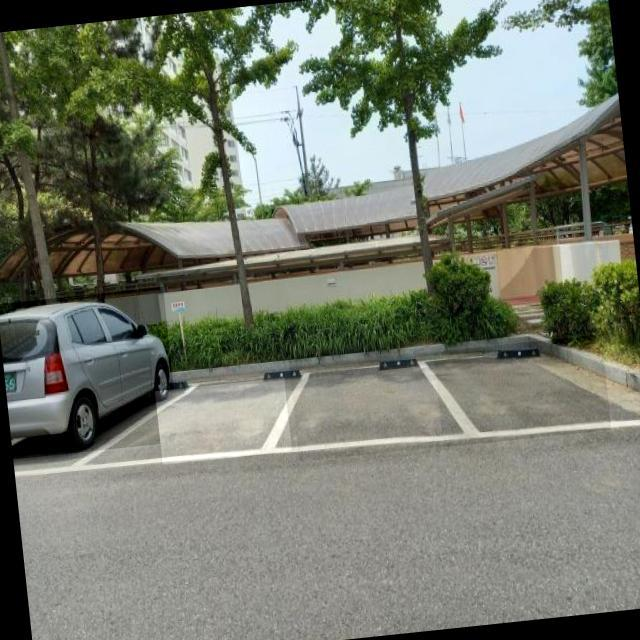empty: (433, 334, 611, 447), (288, 349, 451, 462), (154, 377, 292, 464)
occupied: (0, 286, 179, 459)
